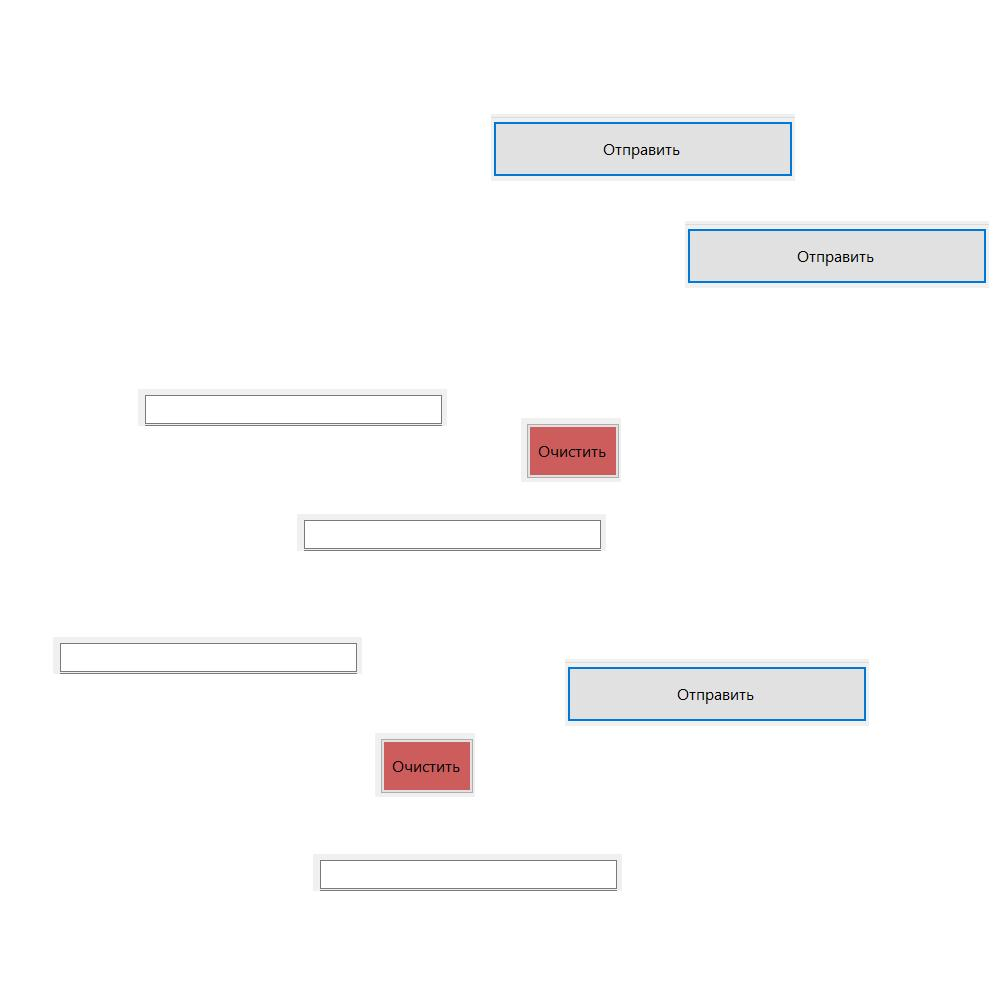Button: (685, 221, 989, 288), (491, 114, 795, 181), (565, 659, 869, 726), (521, 418, 621, 482), (375, 733, 475, 797)
EditText-: (313, 854, 622, 891), (297, 514, 606, 551), (53, 637, 362, 674), (138, 389, 447, 426)
